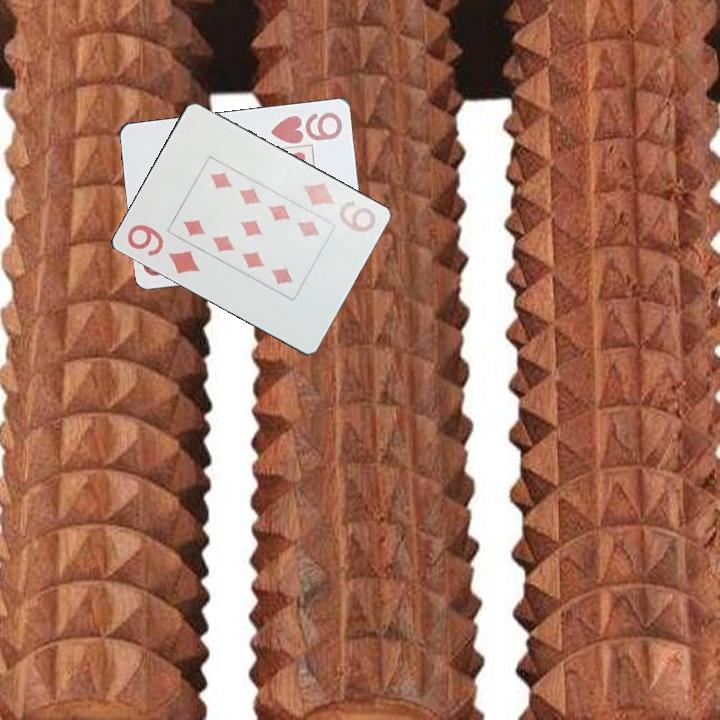9d: (299, 177, 380, 236), (123, 219, 203, 278)
9h: (267, 108, 346, 146)
